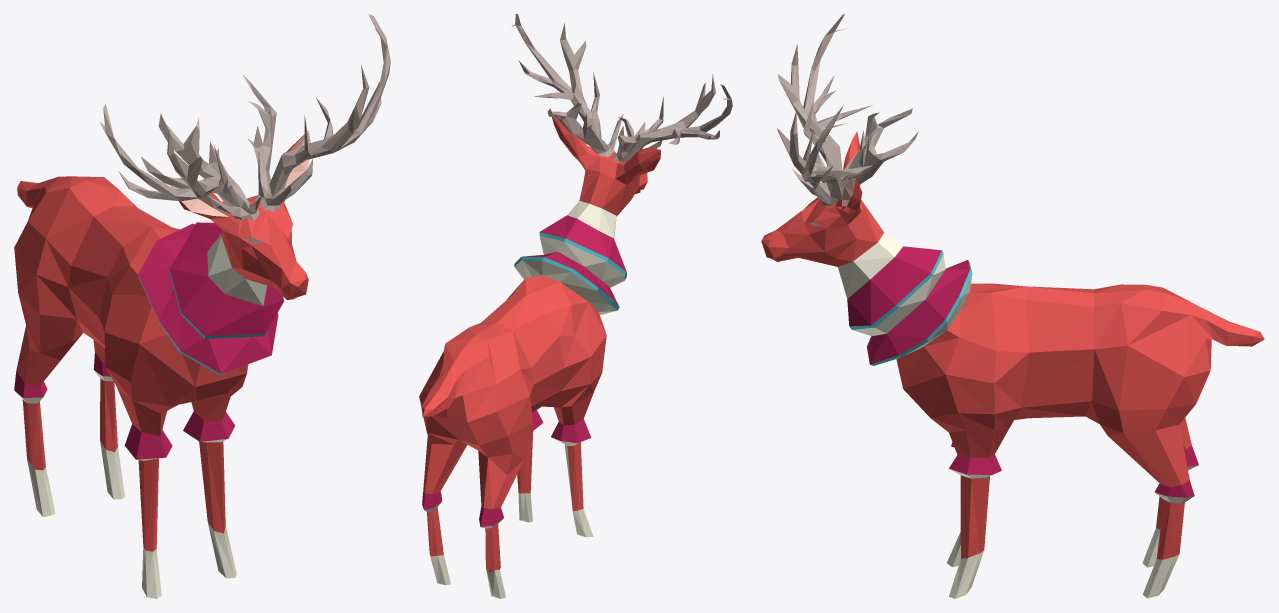
The model's file is animal_001.fbx.
The picture shows the model from 3 angles, left to right: view 1: azimuth 30°, elevation 25°; view 2: azimuth 150°, elevation 25°; view 3: azimuth 270°, elevation 25°; orthographic projection. The views are drawn at different scales.
Parts seen in each view (by area): view 1: animal.001; view 2: animal.001; view 3: animal.001.
Part boxes in pixels (box(x1,y1,x2,y2)): animal.001: box(14, 14, 390, 598); animal.001: box(419, 14, 732, 598); animal.001: box(761, 14, 1264, 598).
Bounding box in the file's own units: 285 × 574 × 498.
1 material, 1 textured.
